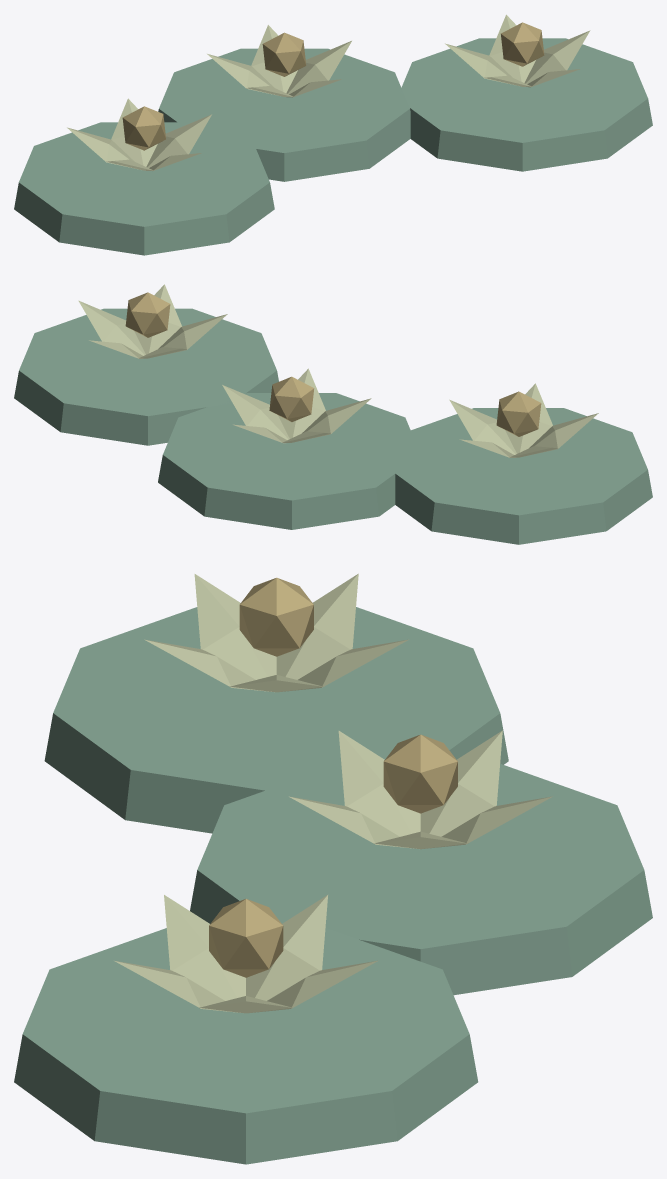
Rendered from map-exclusive-v3__lake_16.glb.
The picture shows the model from 3 angles, top to bottom: view 1: azimuth 30°, elevation 25°; view 2: azimuth 150°, elevation 25°; view 3: azimuth 270°, elevation 25°; orthographic projection. The views are drawn at different scales.
Visible parts, largest first — view 1: lake_16; view 2: lake_16; view 3: lake_16.
Part boxes in pixels (x1=…): lake_16: x1=14, y1=14, x2=652, y2=255; lake_16: x1=14, y1=284, x2=652, y2=544; lake_16: x1=14, y1=573, x2=652, y2=1164.
Bounding box in the file's own units: 2.79 × 0.4201 × 1.46.
